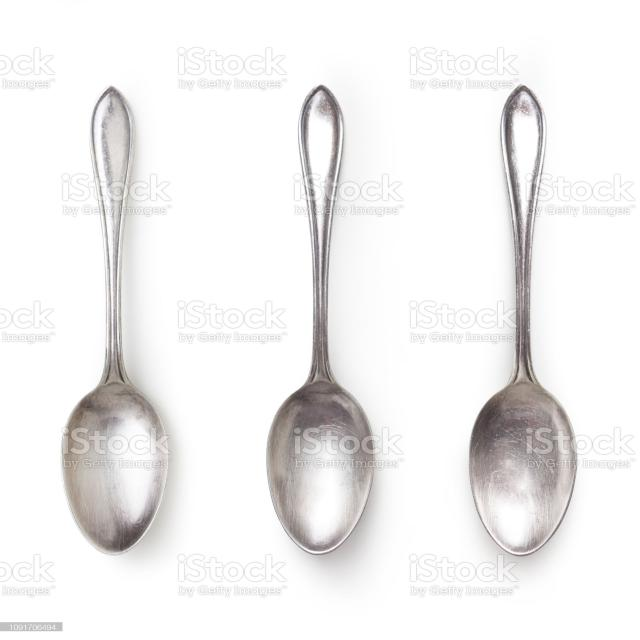spoon: (227, 72, 400, 571)
